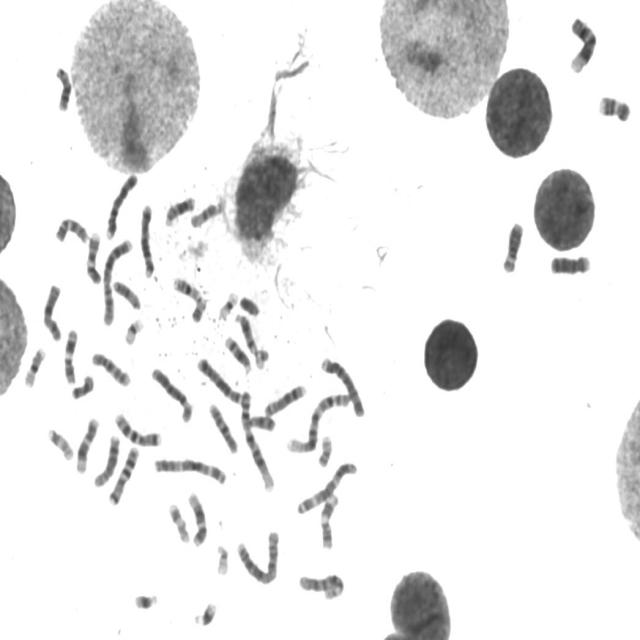A1: (285, 389, 351, 455), (238, 386, 276, 494)
A2: (100, 235, 134, 328), (234, 526, 281, 586)
A3: (294, 458, 359, 516), (151, 454, 228, 486)
B4: (319, 353, 366, 419), (103, 169, 139, 241)
B5: (195, 354, 244, 406), (138, 200, 156, 280)
C10: (206, 399, 239, 455), (89, 348, 132, 389)
C11: (318, 489, 340, 551), (61, 326, 80, 386)
C12: (73, 414, 100, 475), (186, 489, 210, 547)
C6: (149, 364, 194, 424), (296, 569, 346, 602)
C7: (106, 442, 141, 506), (112, 408, 163, 448)
C8: (262, 380, 308, 418), (91, 431, 121, 488)
C9: (53, 213, 90, 245), (84, 228, 103, 285)
D13: (163, 192, 196, 228), (52, 62, 72, 113)
D14: (222, 332, 253, 374), (232, 310, 259, 355)
D15: (188, 194, 227, 230), (110, 277, 143, 311)
E16: (22, 343, 47, 389), (171, 274, 205, 305)
E17: (166, 499, 191, 545), (46, 424, 76, 462)
E18: (69, 371, 96, 401), (246, 412, 277, 433)
F19: (216, 288, 240, 322), (122, 315, 145, 347)
F20: (316, 431, 334, 468), (189, 294, 209, 324)
G21: (191, 598, 218, 628), (132, 589, 160, 611)
G22: (213, 541, 230, 577), (252, 344, 270, 371)
X: (40, 280, 64, 342)
Y: (237, 292, 261, 317)
